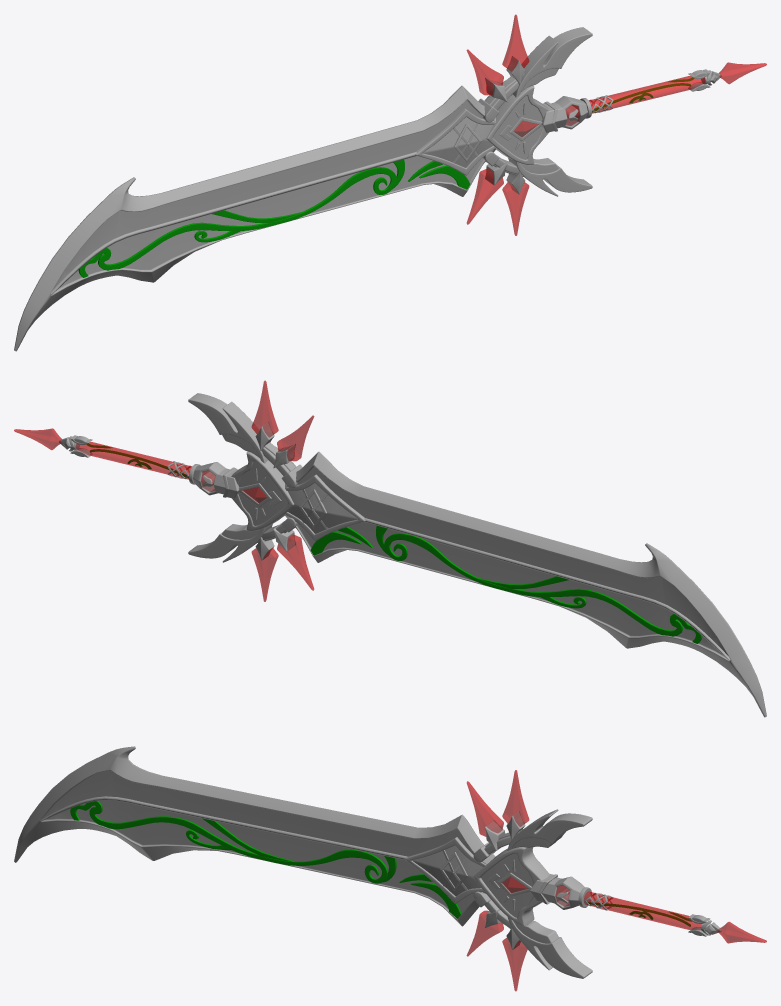
Rendered from Primallal Jade Greatsword.fbx.
3 views of the same model, one above another, from view 1: azimuth 30°, elevation 25°; view 2: azimuth 150°, elevation 25°; view 3: azimuth 330°, elevation 25° (orthographic).
Visible parts, largest first — view 1: polySurface136; view 2: polySurface136; view 3: polySurface136.
Boxes of the visible parts, box(x1,y1,x2,y2) form: polySurface136: box(14, 14, 766, 351); polySurface136: box(14, 380, 766, 717); polySurface136: box(14, 746, 766, 991).
Bounding box in the file's own units: 0.0854 × 0.024 × 0.00345.
